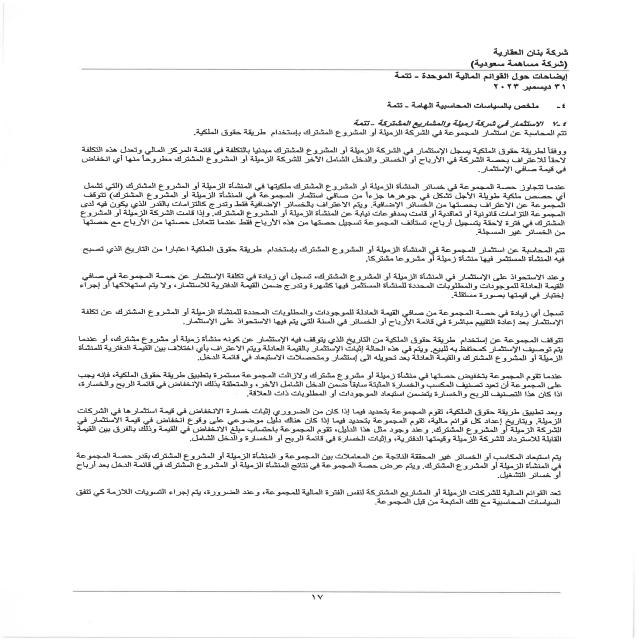notes: (380, 69, 571, 82)
text: (57, 98, 577, 514)
